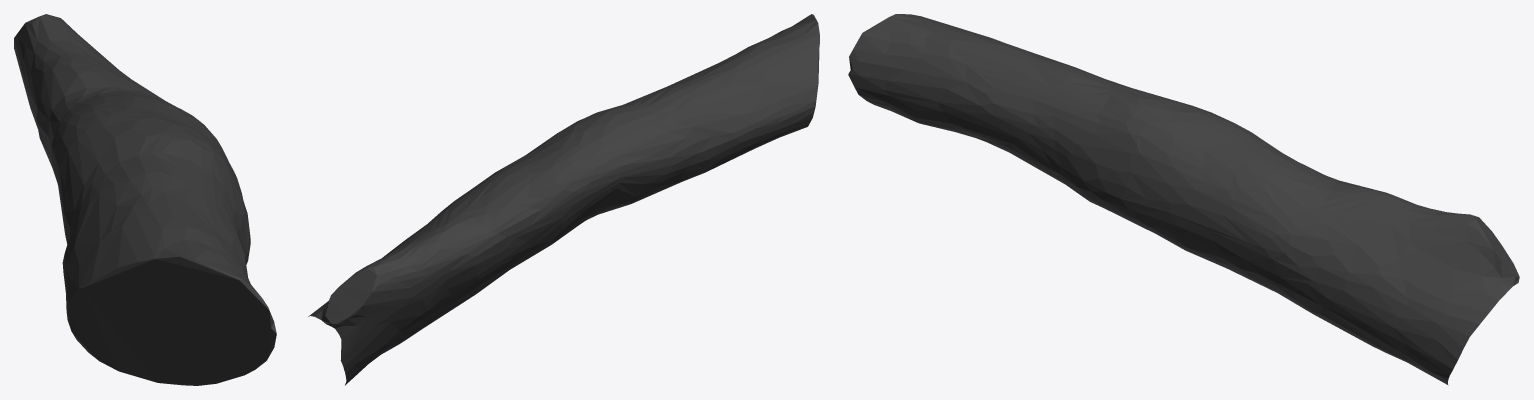
The model's file is Common_iliac_vv_L.glb.
3 views of the same model, side by side, from view 1: azimuth 30°, elevation 25°; view 2: azimuth 150°, elevation 25°; view 3: azimuth 270°, elevation 25° (orthographic). The views are drawn at different scales.
Visible parts, largest first — view 1: Common_iliac_vv_L; view 2: Common_iliac_vv_L; view 3: Common_iliac_vv_L.
Part boxes in pixels (x1,y1,x2,y2): Common_iliac_vv_L: (14,14,276,385); Common_iliac_vv_L: (308,14,819,385); Common_iliac_vv_L: (848,14,1519,385).
Bounding box in the file's own units: 0.2594 × 0.1975 × 0.4811.
Materials: 1 (1 with a texture image).
